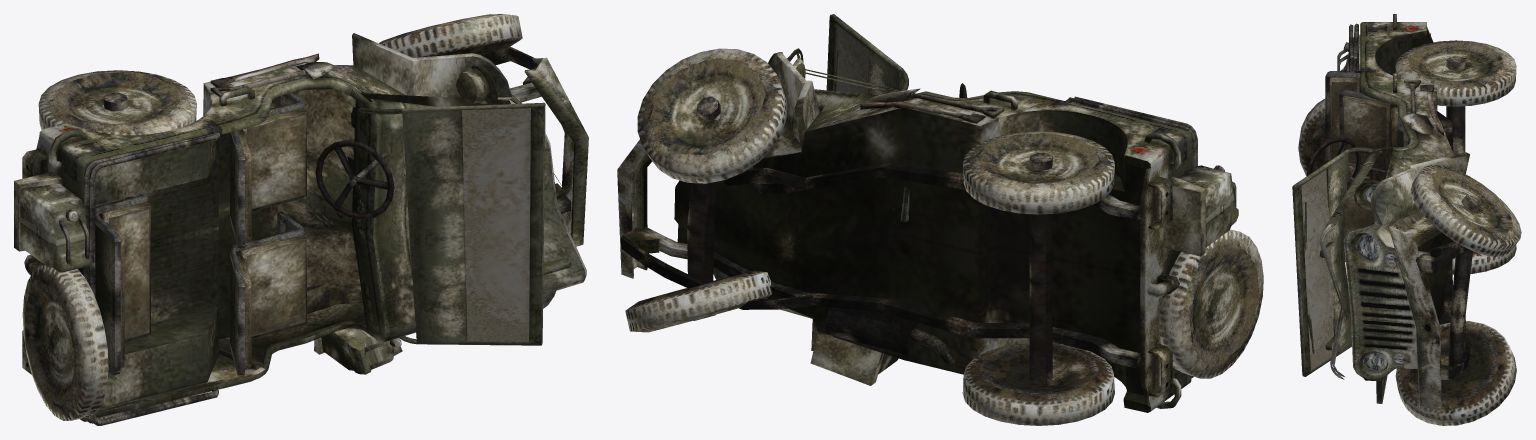
Rendered from vehicle_russia_jeep_crash_static.glb.
3 renders of one model, left to right at view 1: azimuth 30°, elevation 25°; view 2: azimuth 150°, elevation 25°; view 3: azimuth 270°, elevation 25°, orthographic. The views are drawn at different scales.
Size of the model in its own units: 147 by 73.78 by 65.
Materials: 2 (2 with a texture image).
